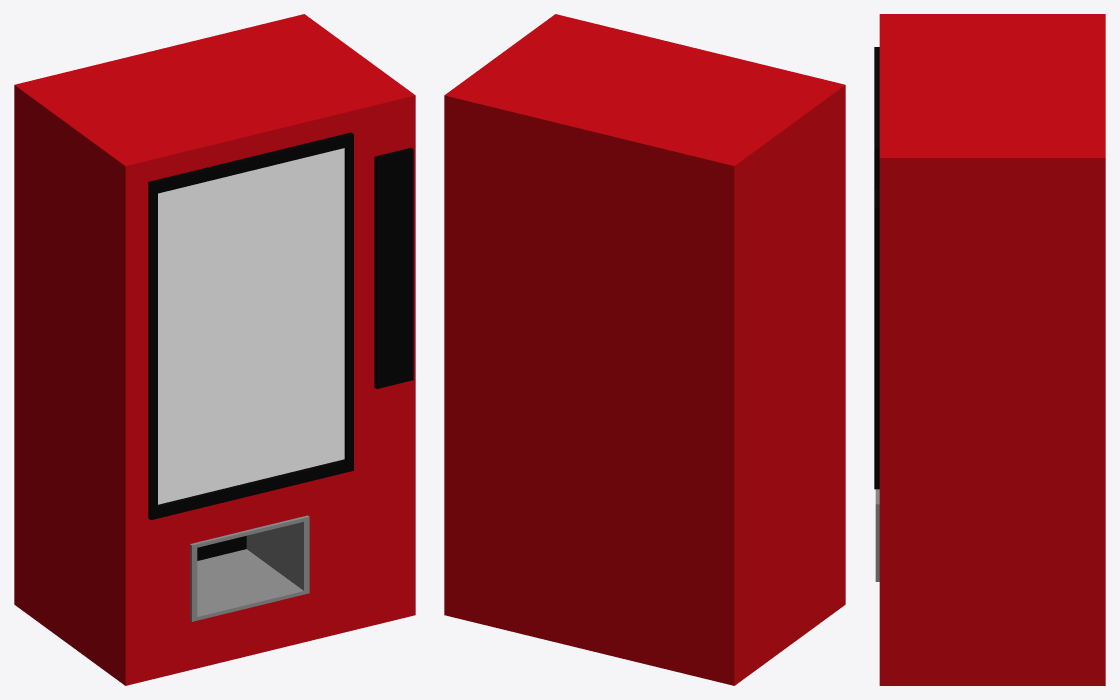
Rendered from VendingMashine.fbx.
3 views of the same model, side by side, from view 1: azimuth 30°, elevation 25°; view 2: azimuth 150°, elevation 25°; view 3: azimuth 270°, elevation 25° (orthographic).
Parts seen in each view (by area): view 1: Cube, Plane.001, Cube.001, Cube.002, Cube.003, Plane; view 2: Cube; view 3: Cube, Cube.002, Cube.001, Cube.003.
Boxes of the visible parts, x1=… form: Cube: x1=14, y1=14, x2=415, y2=685; Plane.001: x1=158, y1=148, x2=344, y2=504; Cube.001: x1=148, y1=132, x2=353, y2=519; Cube.002: x1=374, y1=147, x2=413, y2=388; Cube.003: x1=190, y1=515, x2=309, y2=621; Plane: x1=197, y1=536, x2=246, y2=560; Cube: x1=444, y1=14, x2=845, y2=685; Cube: x1=879, y1=14, x2=1105, y2=685; Cube.002: x1=874, y1=189, x2=879, y2=441; Cube.001: x1=874, y1=47, x2=879, y2=489; Cube.003: x1=875, y1=489, x2=879, y2=581.
Size of the model in its own units: 277 by 475 by 188.
